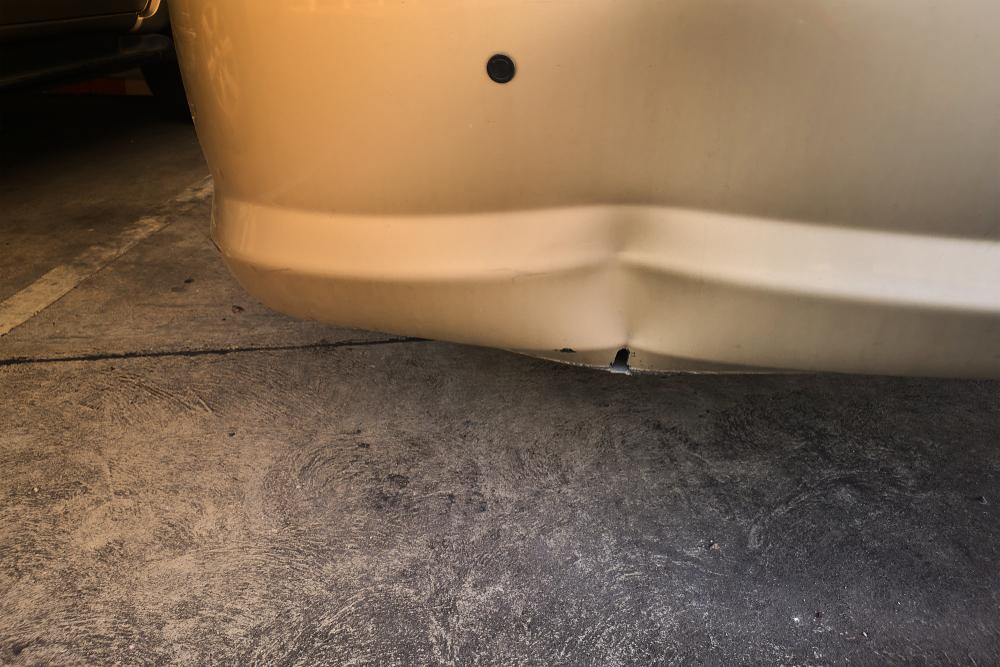dent: (531, 199, 731, 368)
